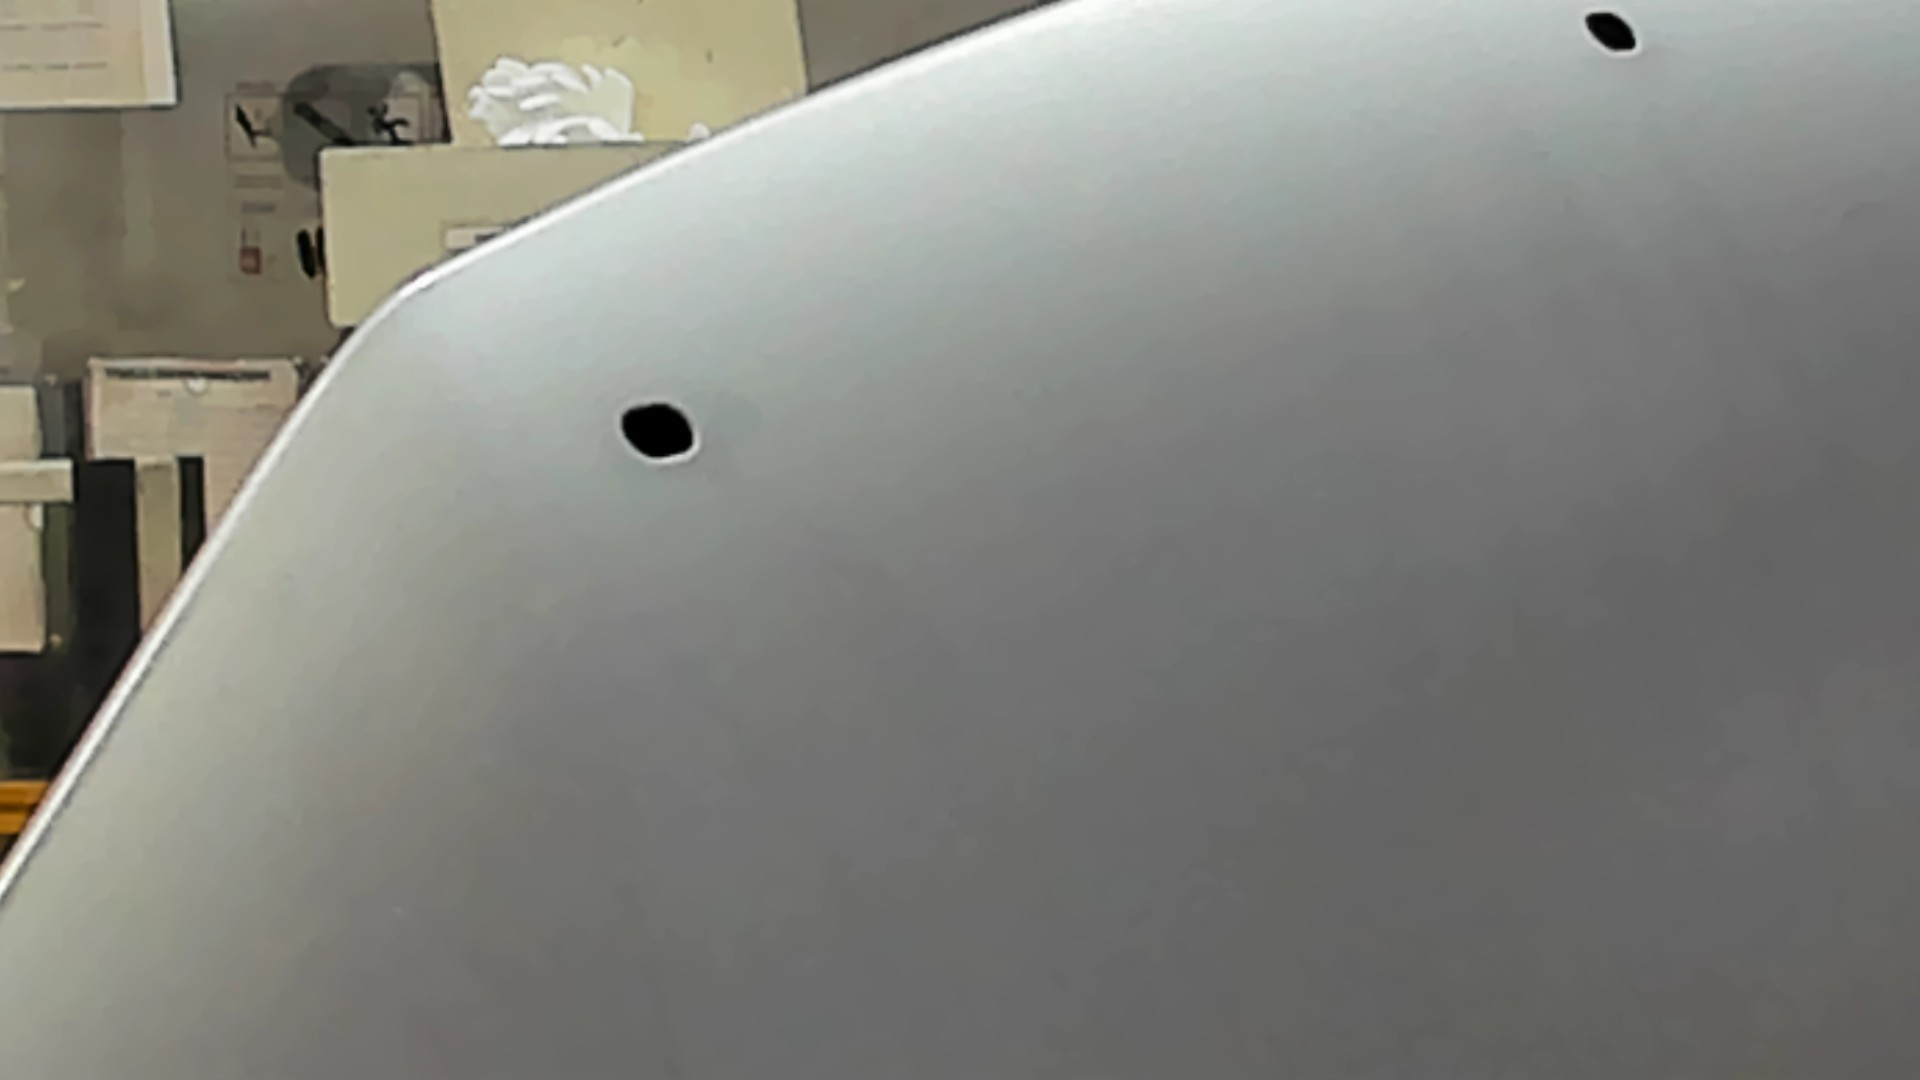Agujero: (611, 396, 707, 469), (1577, 5, 1651, 65)
